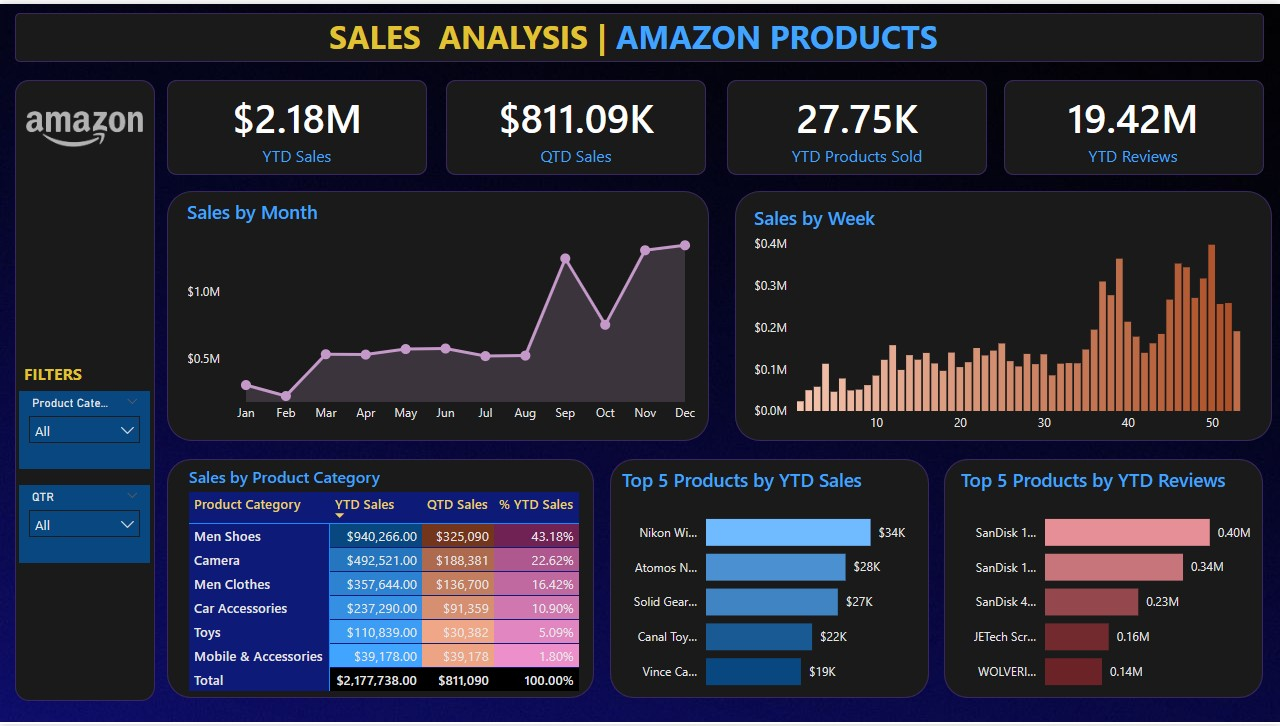

What the dashboard file says about the page in this screenshot:
{"tool":"powerbi","page":{"name":"Page 1","canvas":[1280,720],"ordinal":0},"visuals":[{"type":"shape","box":[167.3,75.9,259.7,95.3],"z":0,"group":"g1"},{"type":"shape","box":[14.6,8.8,1249.8,49.6],"z":0},{"type":"card","fields":{"Values":["Amazon_Data.YTD Sales"]},"box":[167.3,75.9,259.7,95.3],"z":1000,"group":"g1"},{"type":"textbox","box":[323.9,4.9,632.2,53.5],"z":1000},{"type":"shape","box":[446.4,75.9,259.7,95.3],"z":2000,"group":"g1"},{"type":"shape","box":[14.6,75.9,140.1,621.5],"z":2000},{"type":"card","fields":{"Values":["Amazon_Data.QTD Sales"]},"box":[446.4,75.9,259.7,95.3],"z":3000,"group":"g1"},{"type":"group","id":"g1","title":"Group 1","box":[167.3,75.9,1097.1,95.3],"z":3000},{"type":"shape","box":[727.5,75.9,259.7,95.3],"z":4000,"group":"g1"},{"type":"shape","box":[167.3,186.7,542,250],"z":4000},{"type":"shape","box":[1004.7,75.9,259.7,95.3],"z":5000,"group":"g1"},{"type":"areaChart","title":"Sales by Month","fields":{"Category":["Date Table.Month Name"],"Y":["Sum(Amazon_Data.Price(Dollar))"]},"box":[181.9,194.5,524.3,232.5],"z":5000},{"type":"card","fields":{"Values":["Amazon_Data.YTD Products Sold"]},"box":[727.5,75.9,259.7,95.3],"z":6000,"group":"g1"},{"type":"shape","box":[735.3,186.7,536.9,250],"z":6000},{"type":"card","fields":{"Values":["Amazon_Data.YTD Reviews"]},"box":[1003.8,75.9,259.7,95.3],"z":7000,"group":"g1"},{"type":"shape","box":[167.3,455.2,427,239.3],"z":7000},{"type":"columnChart","title":"Sales by Week","fields":{"Category":["Date Table.Week number"],"Y":["Sum(Amazon_Data.Price(Dollar))"]},"box":[748.9,201.3,517.4,235.4],"z":8000},{"type":"pivotTable","title":"Sales by Product Category","fields":{"Rows":["Amazon_Data.Product Category"],"Values":["Amazon_Data.YTD Sales1","Amazon_Data.QTD Sales","Amazon_Data.YTD Sales"]},"box":[183.8,462,419.2,232.5],"z":9000},{"type":"shape","box":[609.8,455.2,319,239.3],"z":9001},{"type":"shape","box":[944.4,455.2,319,239.3],"z":9002},{"type":"clusteredBarChart","title":"Top 5 Products by YTD Sales","fields":{"Category":["Amazon_Data.Product Description"],"Y":["Amazon_Data.YTD Sales"]},"box":[616.7,463,305.4,238.3],"z":9003},{"type":"clusteredBarChart","title":"Top 5 Products by YTD Reviews","fields":{"Category":["Amazon_Data.Product Description"],"Y":["Amazon_Data.YTD Reviews"]},"box":[956.1,463,305.4,238.3],"z":9004},{"type":"slicer","fields":{"Values":["Amazon_Data.Product Category"]},"box":[19.5,387.1,130.3,77.8],"z":9005},{"type":"slicer","fields":{"Values":["Date Table.QTR"]},"box":[19.5,481.5,130.3,77.8],"z":9006},{"type":"image","box":[1,40.9,167.3,164.4],"z":9007},{"type":"textbox","box":[19.5,354,81.7,33.1],"z":9008}]}

Visuals, with their boxes in screenshot pixels (x1, y1, x2, y2), scaled from the page's 1280x720 canvas onto the 1280x726 screenshot:
shape: x1=167 y1=77 x2=427 y2=173
shape: x1=15 y1=9 x2=1264 y2=59
card - Amazon_Data.YTD Sales: x1=167 y1=77 x2=427 y2=173
textbox: x1=324 y1=5 x2=956 y2=59
shape: x1=446 y1=77 x2=706 y2=173
shape: x1=15 y1=77 x2=155 y2=703
card - Amazon_Data.QTD Sales: x1=446 y1=77 x2=706 y2=173
"Group 1" group: x1=167 y1=77 x2=1264 y2=173
shape: x1=728 y1=77 x2=987 y2=173
shape: x1=167 y1=188 x2=709 y2=440
shape: x1=1005 y1=77 x2=1264 y2=173
"Sales by Month" areaChart: x1=182 y1=196 x2=706 y2=431
card - Amazon_Data.YTD Products Sold: x1=728 y1=77 x2=987 y2=173
shape: x1=735 y1=188 x2=1272 y2=440
card - Amazon_Data.YTD Reviews: x1=1004 y1=77 x2=1264 y2=173
shape: x1=167 y1=459 x2=594 y2=700
"Sales by Week" columnChart: x1=749 y1=203 x2=1266 y2=440
"Sales by Product Category" pivotTable: x1=184 y1=466 x2=603 y2=700
shape: x1=610 y1=459 x2=929 y2=700
shape: x1=944 y1=459 x2=1263 y2=700
"Top 5 Products by YTD Sales" clusteredBarChart: x1=617 y1=467 x2=922 y2=707
"Top 5 Products by YTD Reviews" clusteredBarChart: x1=956 y1=467 x2=1262 y2=707
slicer - Amazon_Data.Product Category: x1=20 y1=390 x2=150 y2=469
slicer - Date Table.QTR: x1=20 y1=486 x2=150 y2=564
image: x1=1 y1=41 x2=168 y2=207
textbox: x1=20 y1=357 x2=101 y2=390
